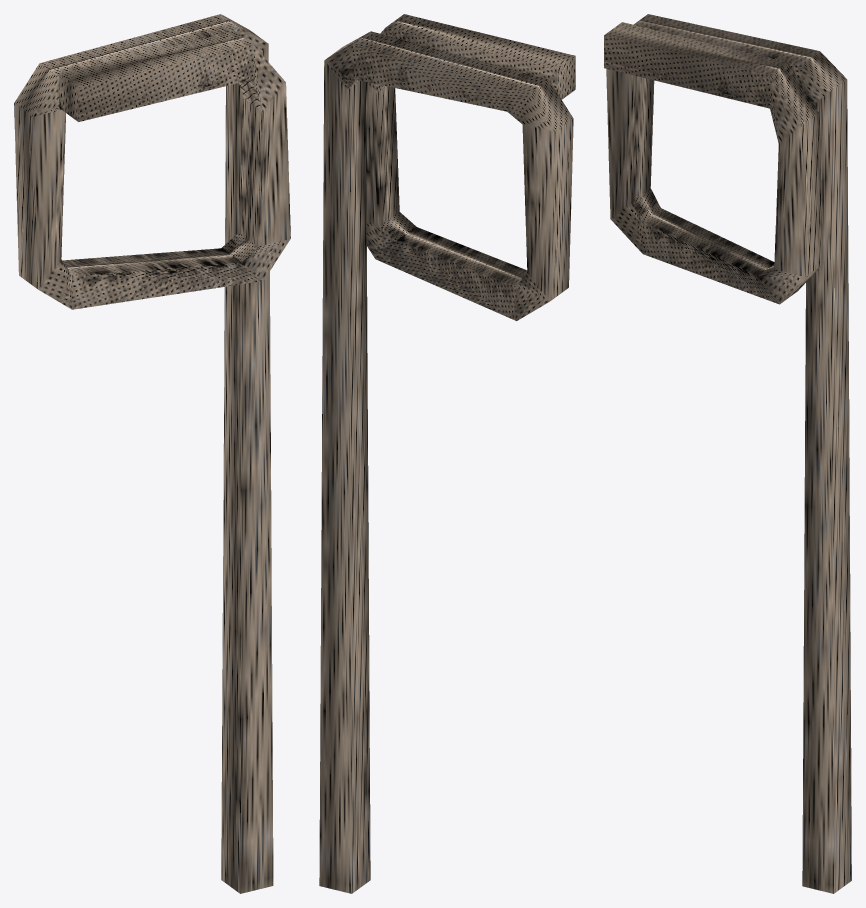
3 renders of one model, left to right at view 1: azimuth 30°, elevation 25°; view 2: azimuth 150°, elevation 25°; view 3: azimuth 330°, elevation 25°, orthographic. The views are drawn at different scales.
Parts seen in each view (by area): view 1: rope; view 2: rope; view 3: rope.
Part boxes in pixels (x1,y1,x2,y2): rope: (14,14,290,893); rope: (319,14,575,893); rope: (604,14,851,893).
Bounding box in the file's own units: 63.34 × 219 × 19.5.
1 material, 1 textured.
